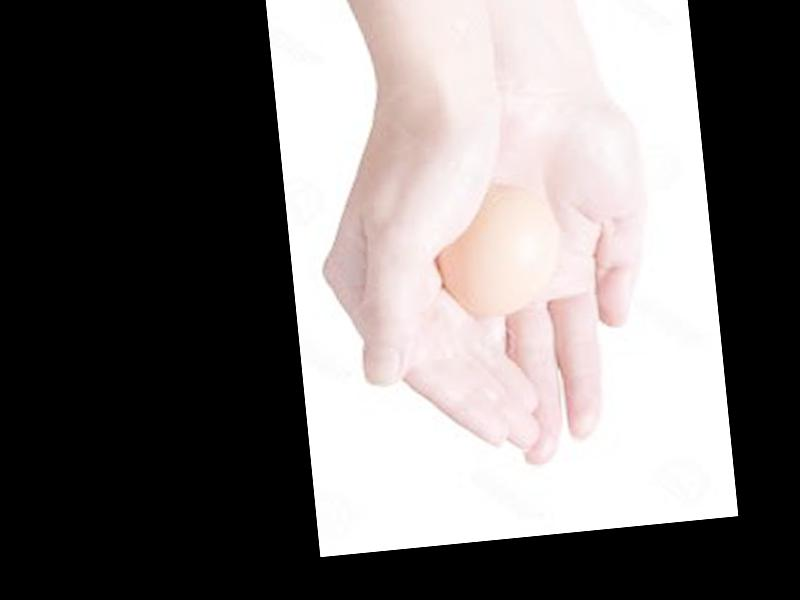Eggs: (434, 187, 560, 320)
